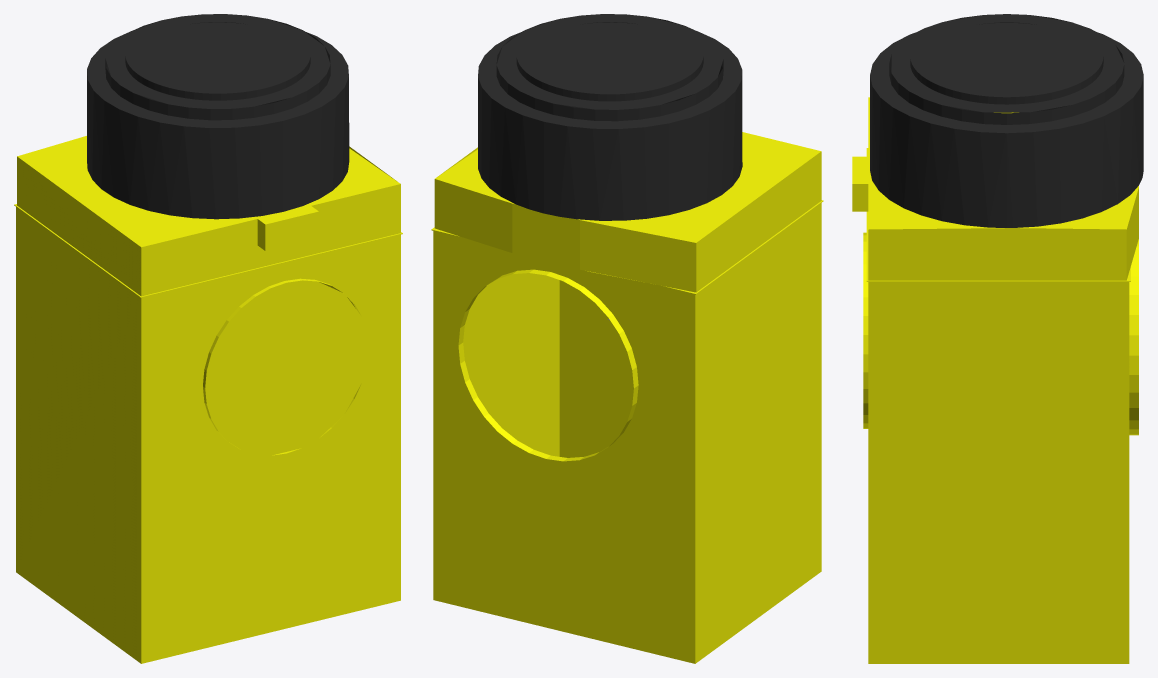
The picture shows the model from 3 angles, left to right: view 1: azimuth 30°, elevation 25°; view 2: azimuth 150°, elevation 25°; view 3: azimuth 270°, elevation 25°; orthographic projection. The views are drawn at different scales.
Parts seen in each view (by area): view 1: node; view 2: node; view 3: node.
Boxes of the visible parts, bbox=[...] form: node: bbox=[14, 14, 402, 663]; node: bbox=[431, 14, 823, 663]; node: bbox=[852, 14, 1143, 663].
Bounding box in the file's own units: 98 × 188 × 90.5.
